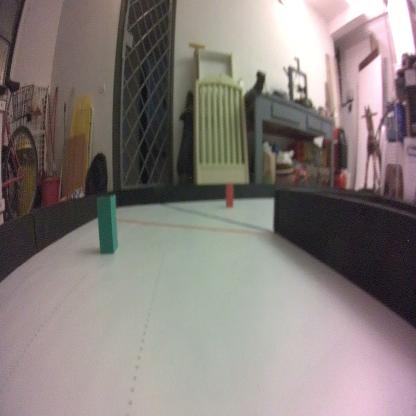green: (96, 190, 120, 256)
red: (223, 181, 234, 210)
